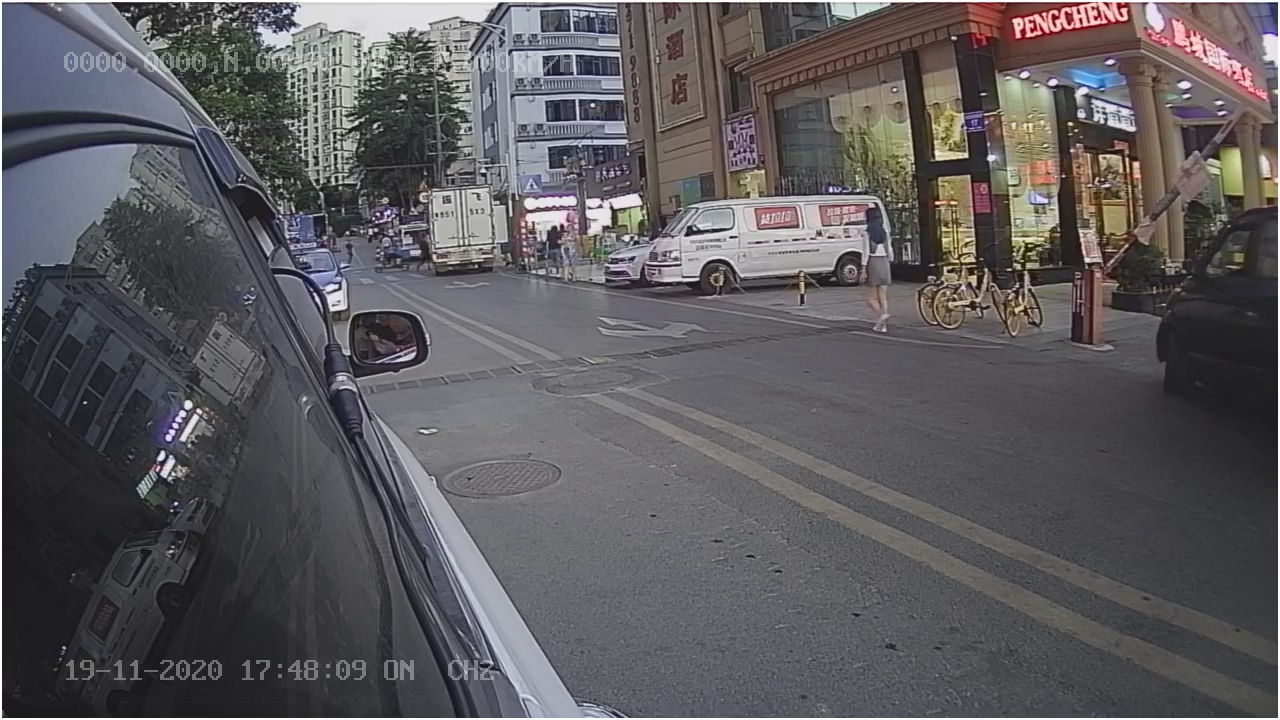person: (854, 204, 899, 339)
